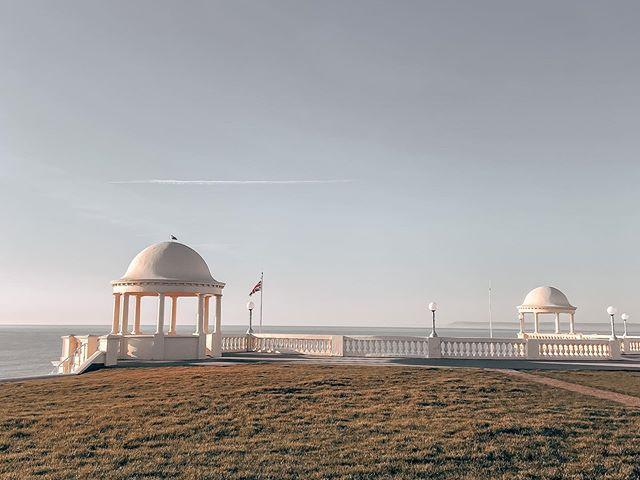building: (89, 241, 224, 363), (518, 283, 576, 363)
flag: (242, 271, 268, 298)
grass: (5, 369, 597, 480)
sky: (1, 1, 632, 282)
